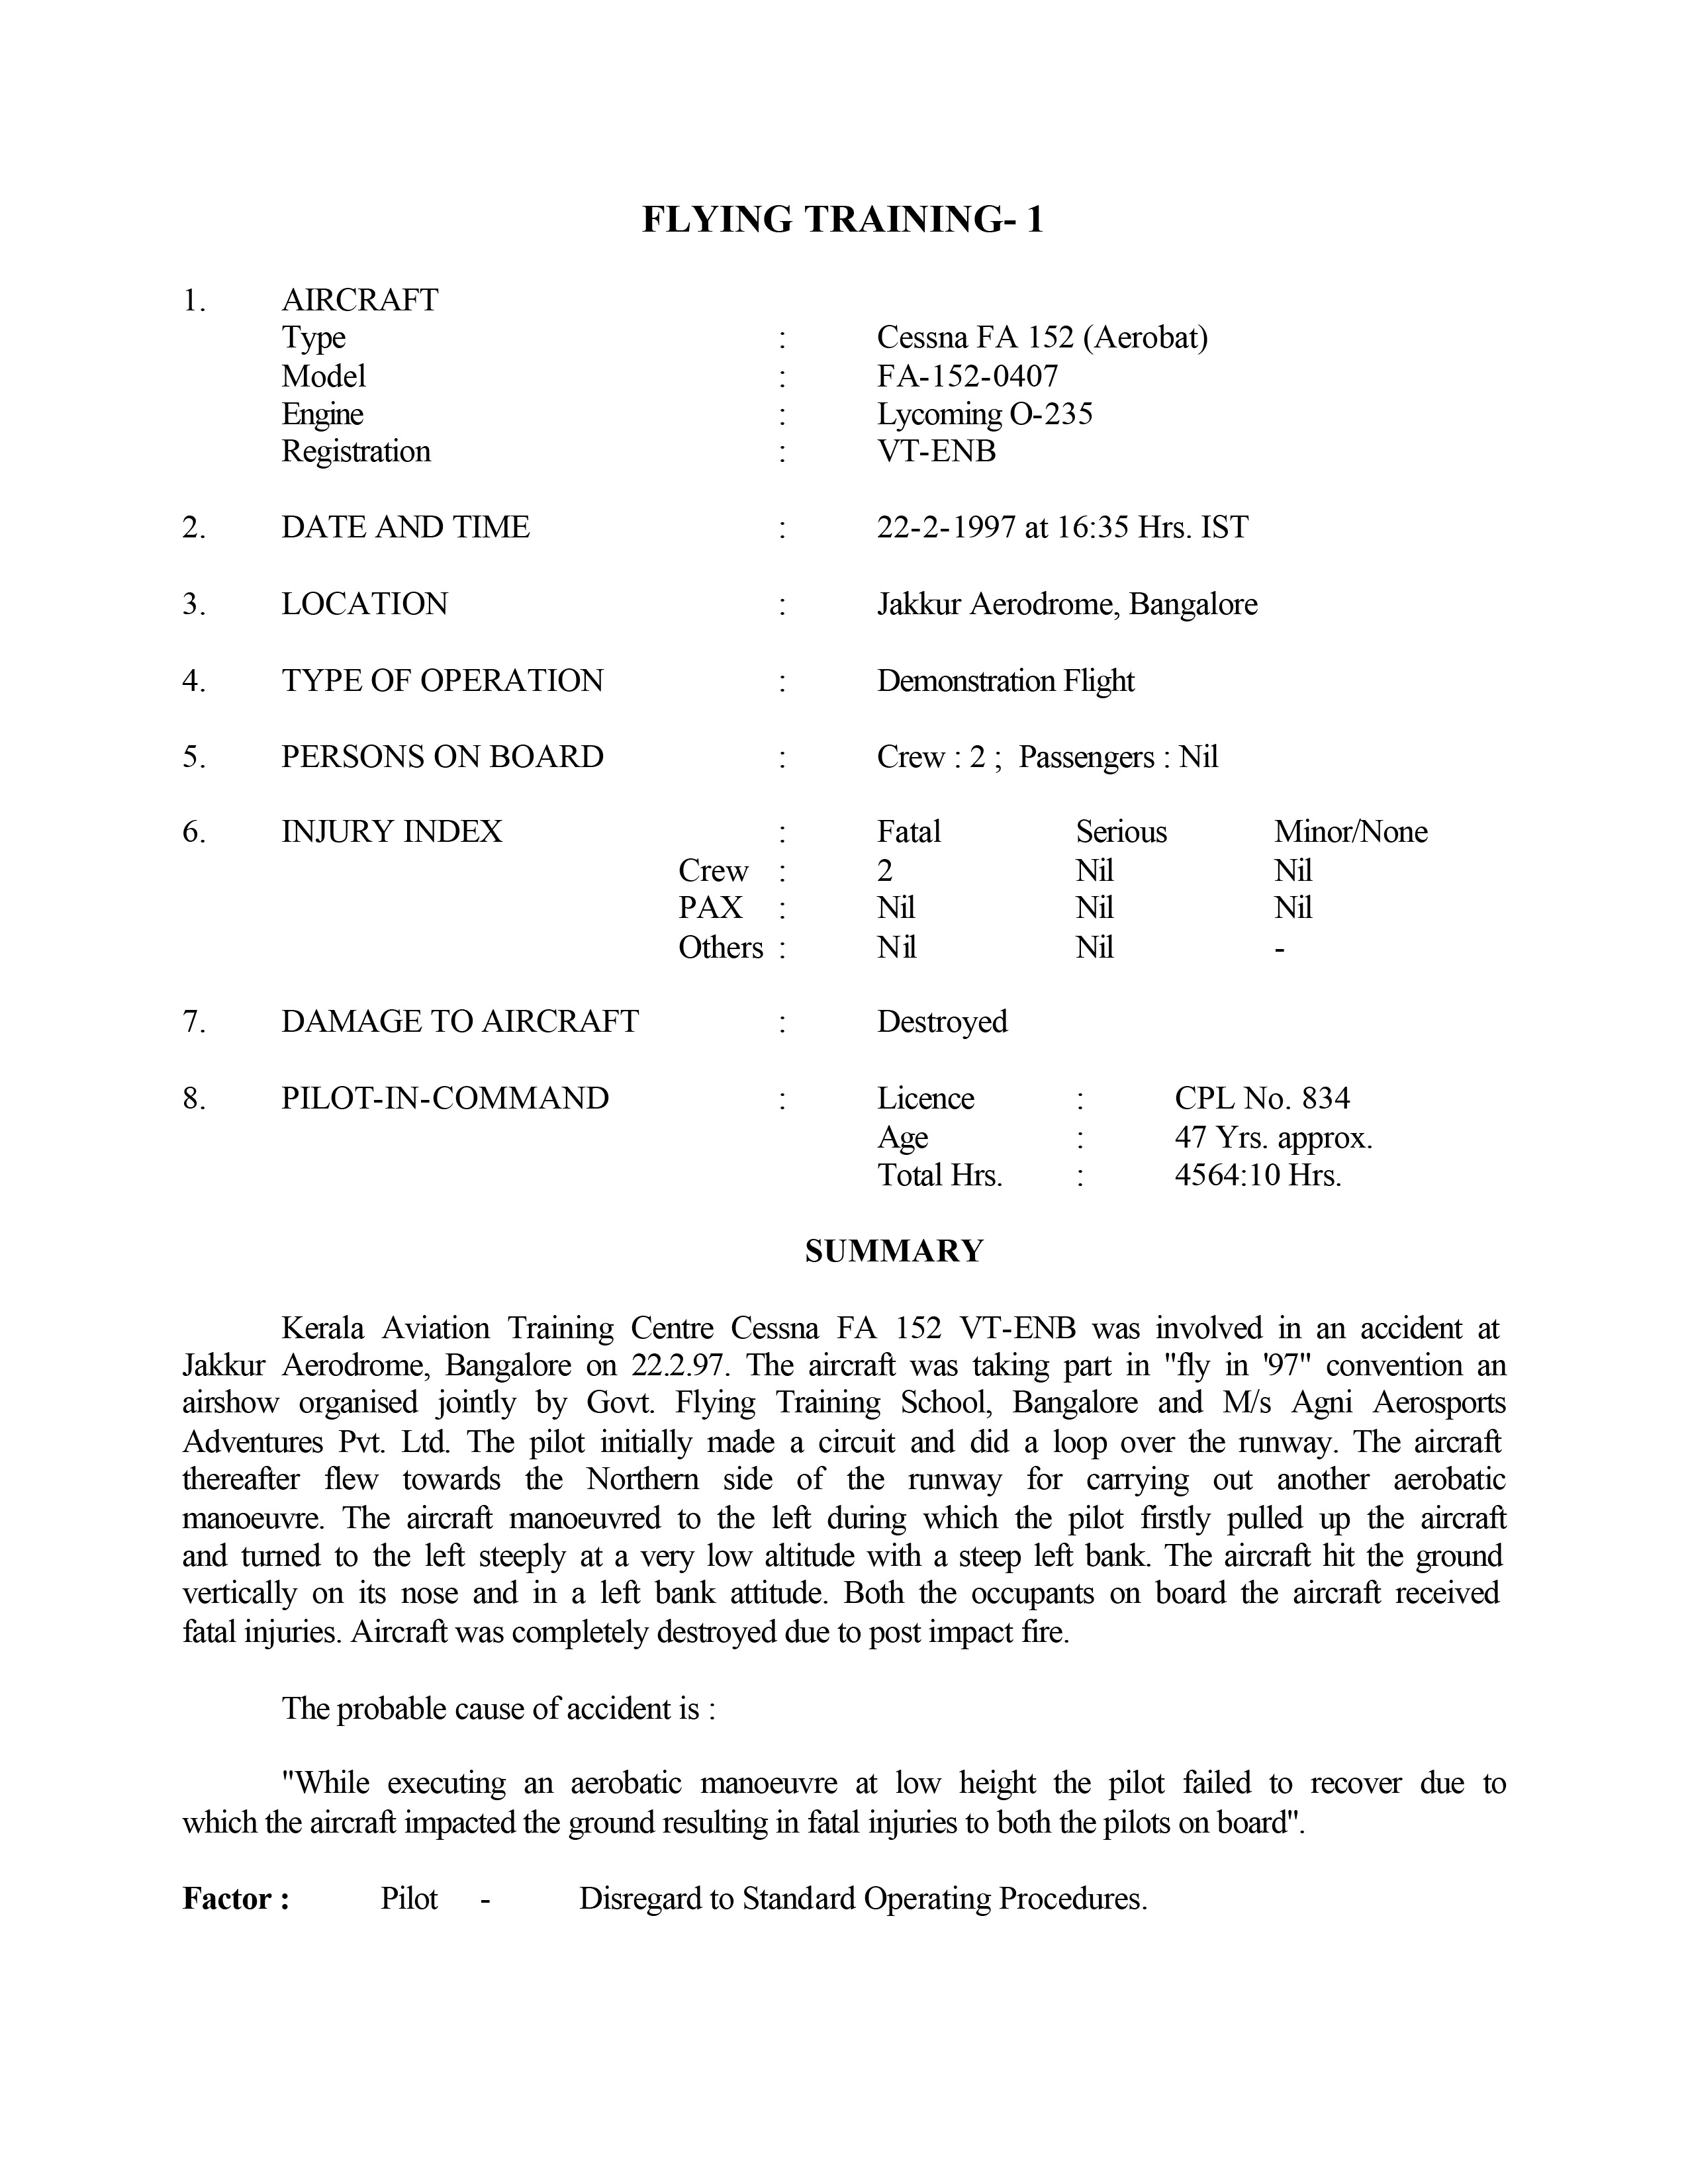caption: (610, 163, 1089, 239)
section: (782, 1225, 1016, 1278)
table: (167, 262, 1461, 1195)
text: (163, 1289, 1518, 1661), (190, 1764, 1525, 1844), (174, 1870, 1149, 1929), (280, 1684, 716, 1728)
